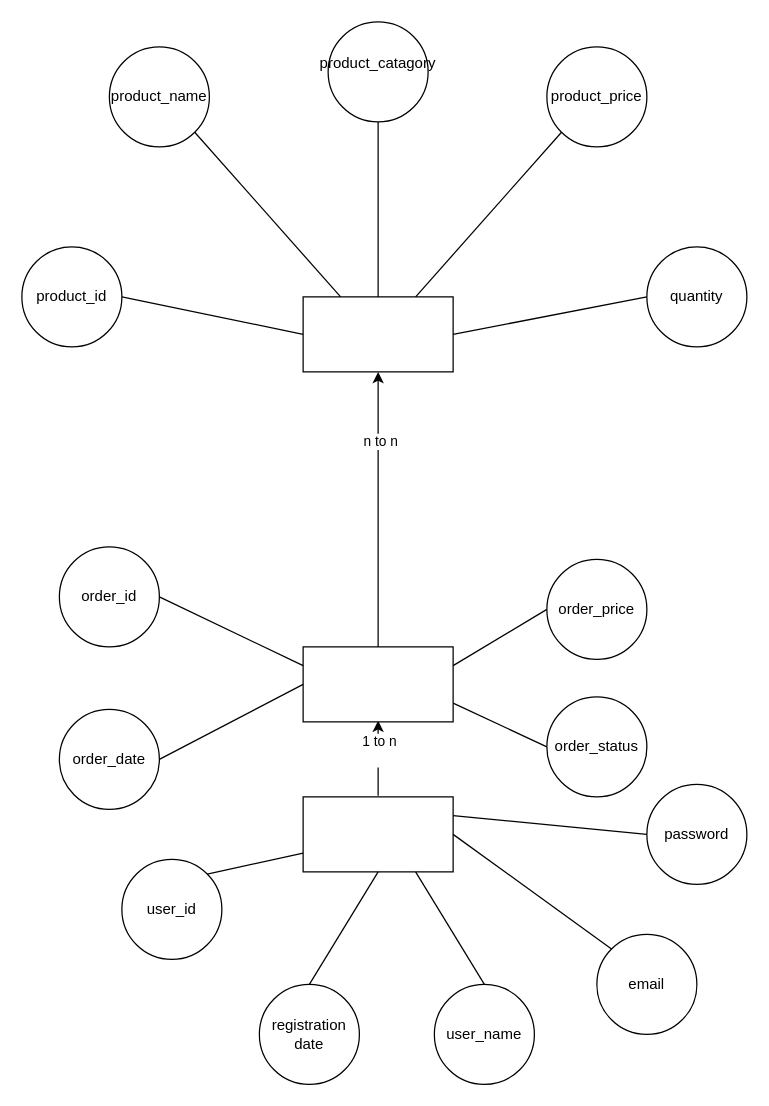
Image size: 769x1106. Some labels were removed from this diagram. The centre of each missing label's shape, as x and y in pixels:
"Order" goes at point (377, 684).
"Product" goes at point (377, 334).
"User" goes at point (377, 834).
